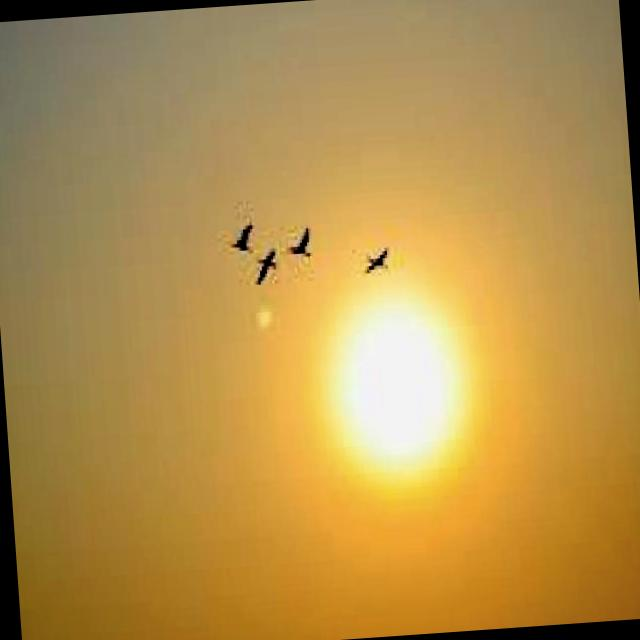bird: (283, 225, 323, 263), (251, 246, 284, 292), (362, 246, 395, 280), (222, 225, 256, 257)
